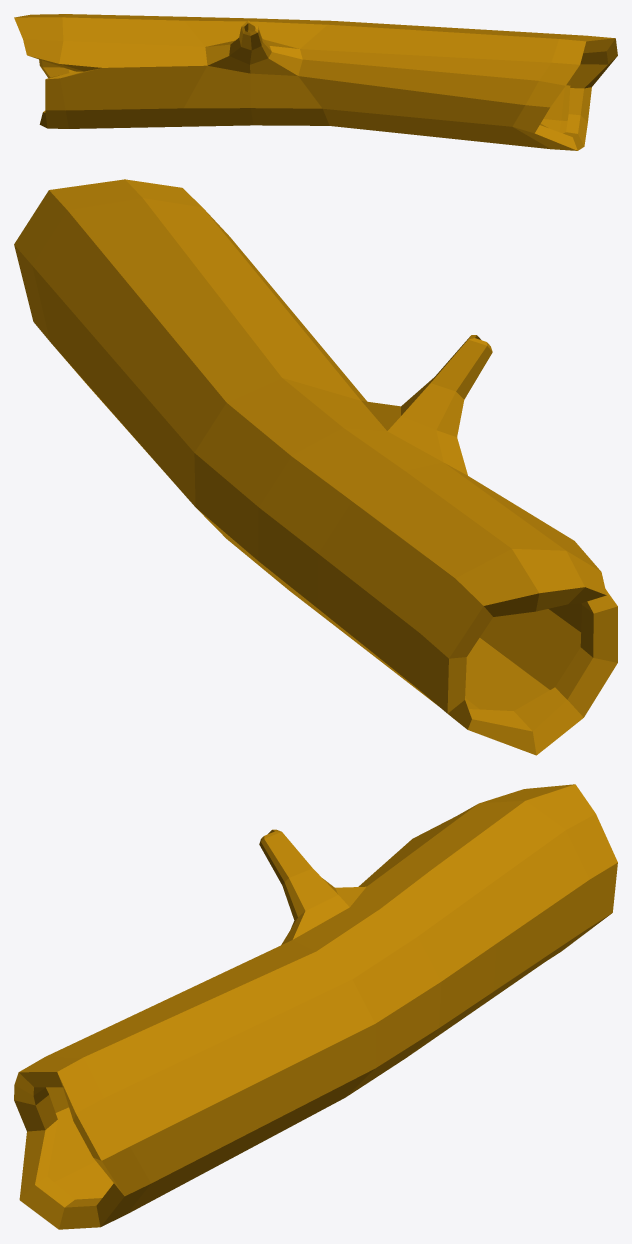
File: Tronco.fbx
The picture shows the model from 3 angles, top to bottom: view 1: azimuth 30°, elevation 25°; view 2: azimuth 150°, elevation 25°; view 3: azimuth 270°, elevation 25°; orthographic projection. The views are drawn at different scales.
Visible parts, largest first — view 1: Cylinder.001; view 2: Cylinder.001; view 3: Cylinder.001.
Part boxes in pixels (bbox=[...]): Cylinder.001: bbox=[14, 14, 617, 150]; Cylinder.001: bbox=[14, 179, 617, 755]; Cylinder.001: bbox=[14, 784, 617, 1229].
Bounding box in the file's own units: 97.71 × 27.82 × 73.93.
